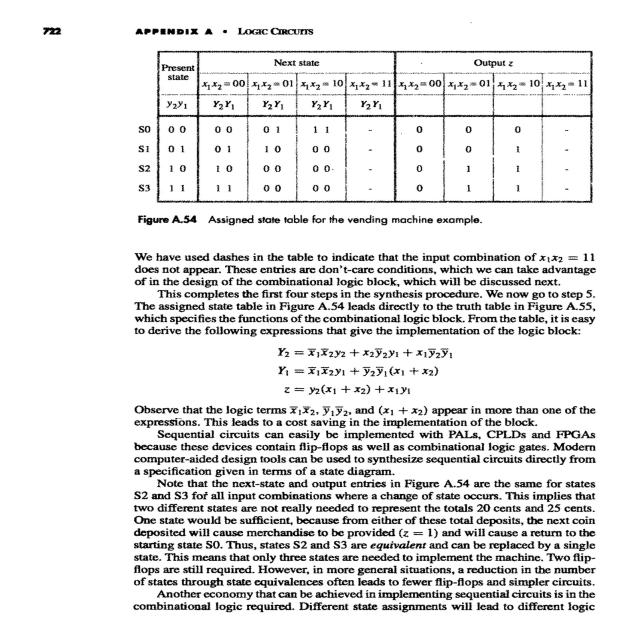diagram: (110, 38, 635, 238)
